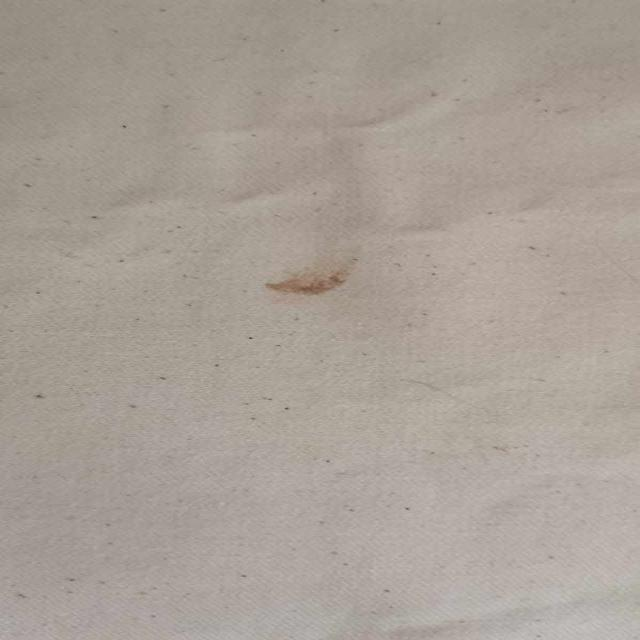taaaches: (270, 252, 366, 305)
